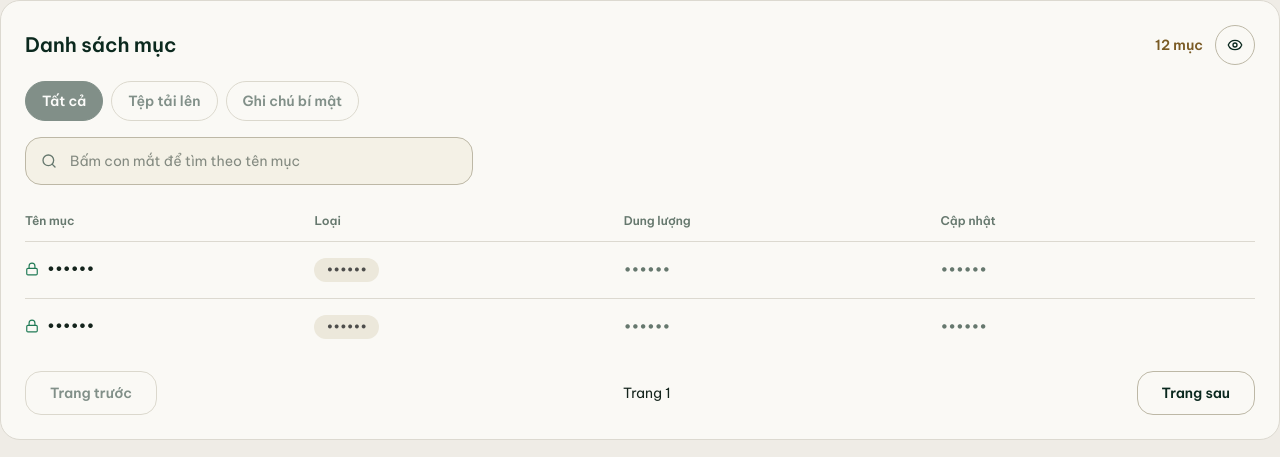
Test: AssetList › shows the total, kind, update date and a link to each item's detail page
The width and height of the screenshot is (1280, 457).
Expected: the text "12 mục" is shown, 1155,35 -> 1203,55
Click the button named "Hiện thông tin các mục".
click(1235, 45)  # box 1215,25 -> 1255,65
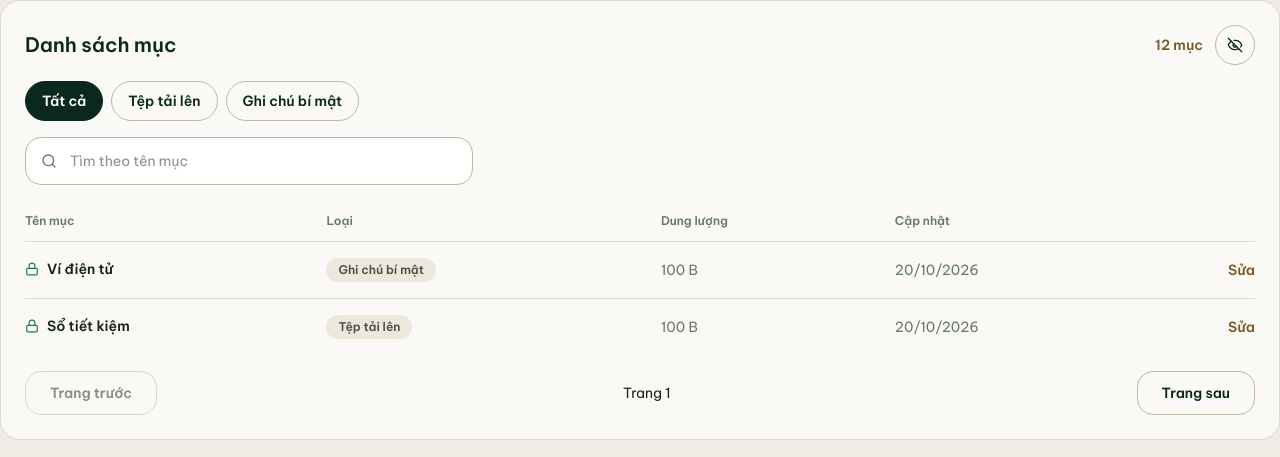
Expected: the button named "Ẩn thông tin các mục" is shown, 1215,25 -> 1255,65
Expected: the text "Ghi chú bí mật" is shown, 326,258 -> 436,282
Expected: the text "Tệp tải lên" is shown, 326,315 -> 412,339
